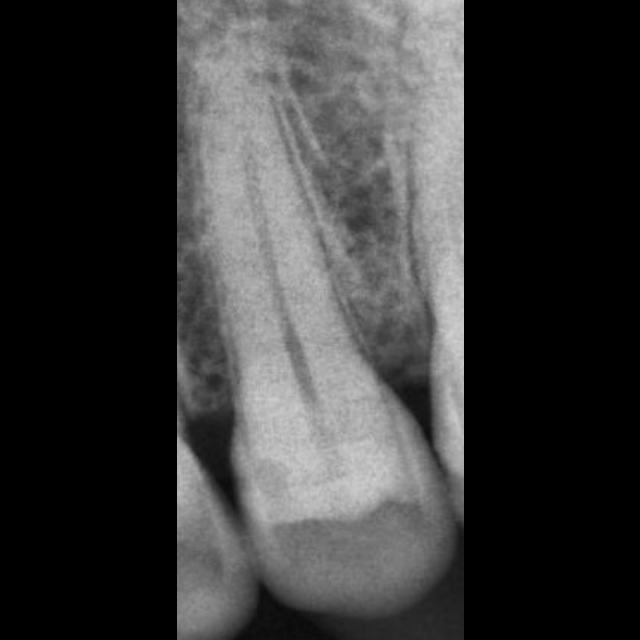tooth: (203, 45, 456, 610)
